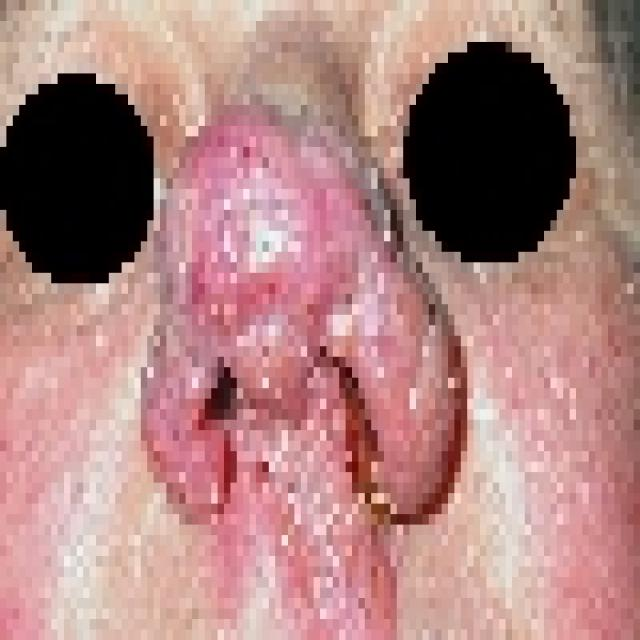lupus: (153, 128, 439, 638)
